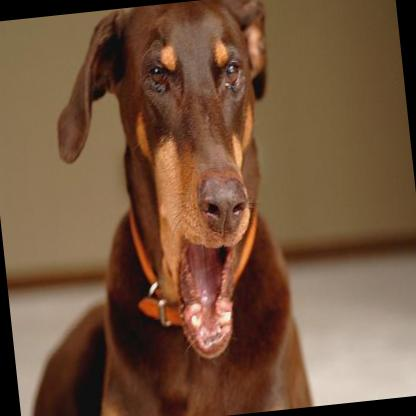Doberman: (0, 0, 335, 416)
